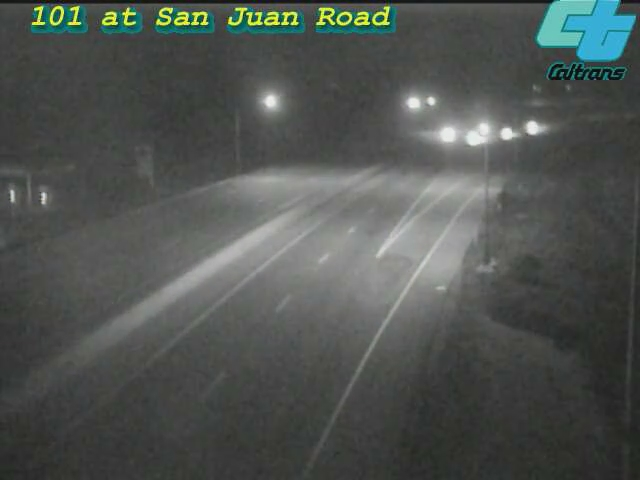vehicle: (422, 109, 472, 159), (455, 102, 505, 152), (507, 103, 557, 153), (481, 109, 531, 159), (449, 114, 499, 164)
